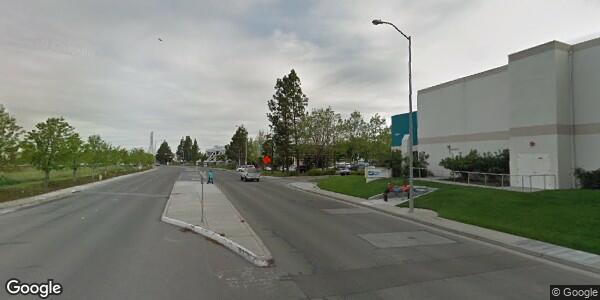Steel_Pole: (370, 16, 418, 212)
